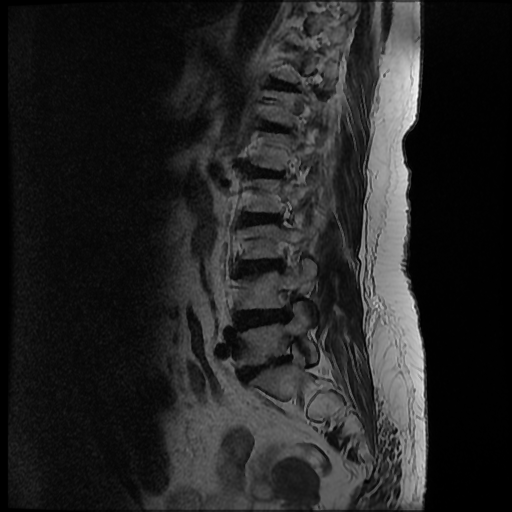LFS3: (270, 280, 308, 325)
